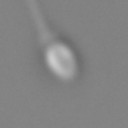normal: (20, 1, 57, 44)
